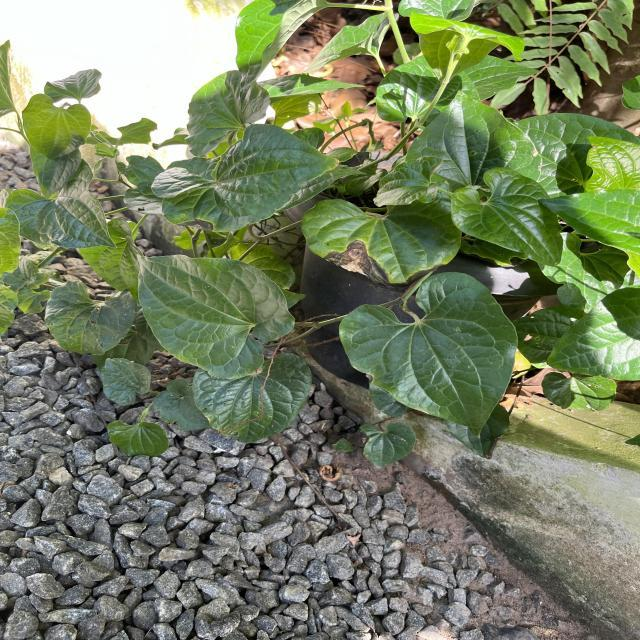Piper longum: (336, 270, 521, 440), (133, 251, 299, 382), (448, 165, 566, 268), (20, 92, 94, 162)
